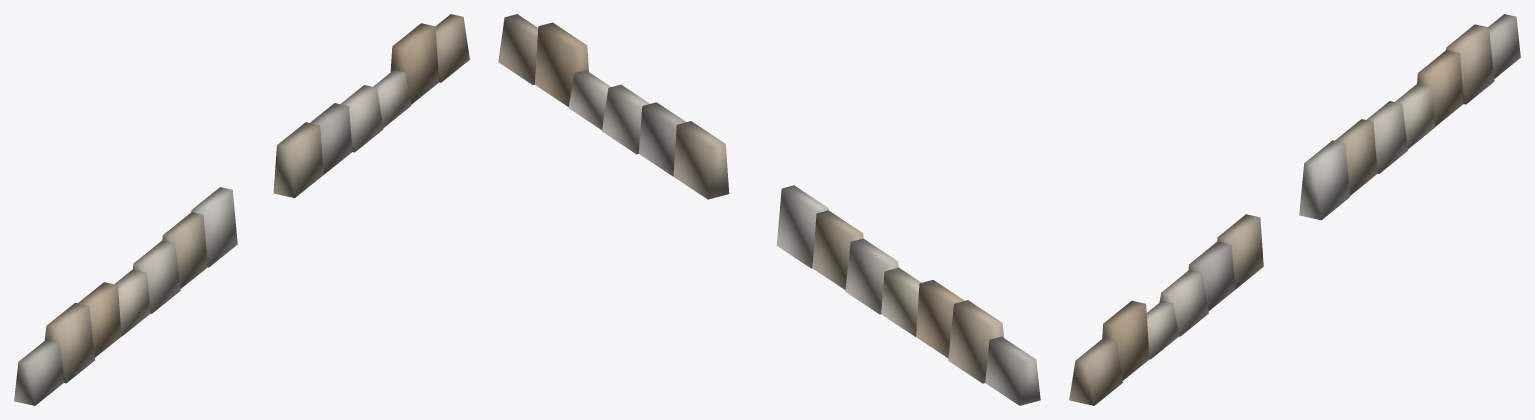
Rendered from farm_26_10_collision.glb.
3 renders of one model, left to right at view 1: azimuth 90°, elevation 25°; view 2: azimuth 150°, elevation 25°; view 3: azimuth 270°, elevation 25°, orthographic. The views are drawn at different scales.
Parts seen in each view (by area): view 1: geometry_0; view 2: geometry_0; view 3: geometry_0.
Boxes of the visible parts, x1,y1,x2,y2 form: geometry_0: [14, 14, 469, 405]; geometry_0: [498, 14, 1040, 405]; geometry_0: [1069, 14, 1520, 405].
Bounding box in the file's own units: 21.1 × 1.54 × 11.48.
